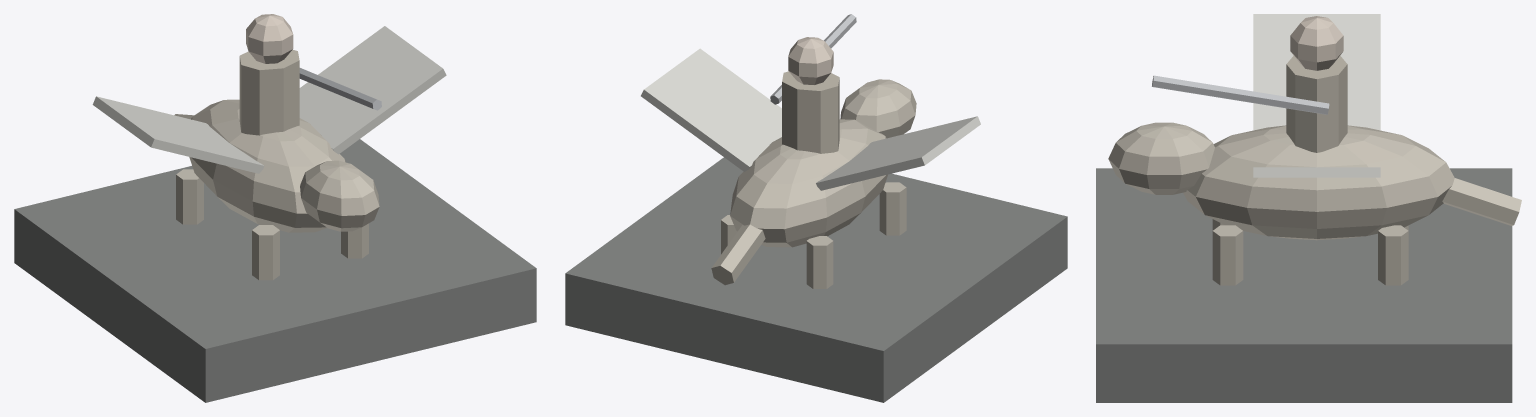
Rendered from elf_hippogryph.glb.
The picture shows the model from 3 angles, left to right: view 1: azimuth 30°, elevation 25°; view 2: azimuth 150°, elevation 25°; view 3: azimuth 270°, elevation 25°; orthographic projection. The views are drawn at different scales.
Parts seen in each view (by area): view 1: Base, TurretMesh, Spear; view 2: Base, TurretMesh, Spear; view 3: Base, TurretMesh, Spear.
Boxes of the visible parts, <box> form: Base: <box>14,139,536,402</box>; TurretMesh: <box>92,14,446,280</box>; Spear: <box>299,68,381,110</box>; Base: <box>565,157,1067,402</box>; TurretMesh: <box>641,37,980,288</box>; Spear: <box>770,14,856,104</box>; Base: <box>1096,168,1512,402</box>; TurretMesh: <box>1108,14,1521,285</box>; Spear: <box>1152,75,1329,114</box>.
Size of the model in its own units: 1.8 by 1.42 by 1.84.
